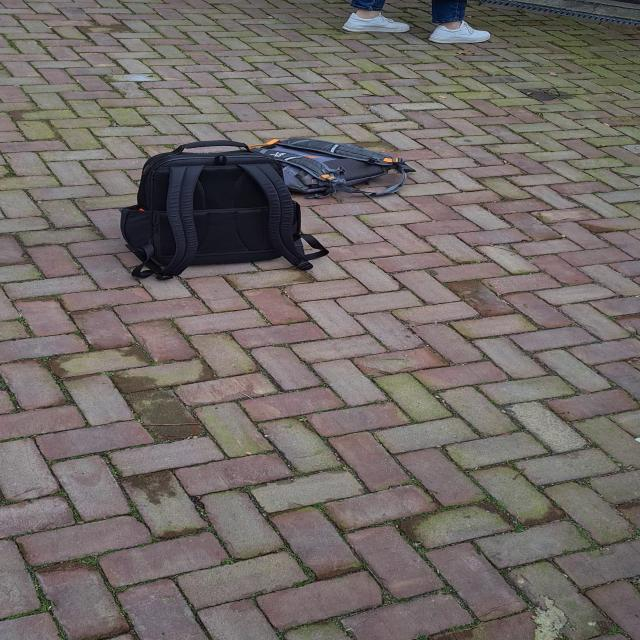backpack: (110, 136, 308, 279), (253, 132, 416, 203)
